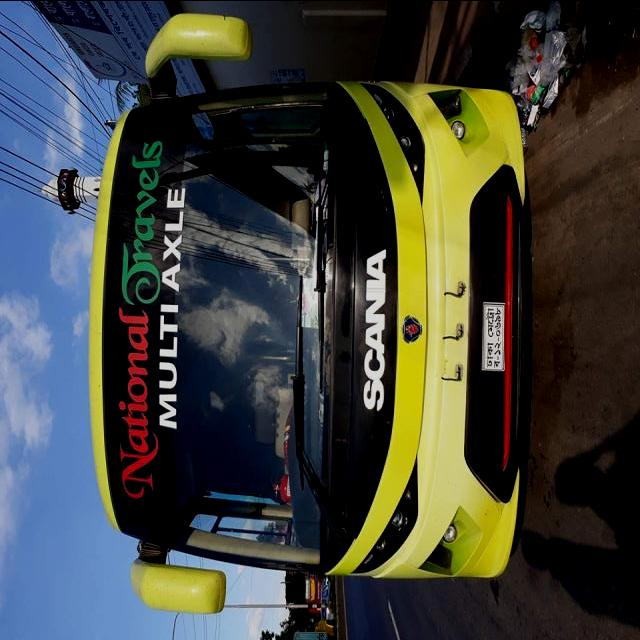bus: (86, 12, 535, 620)
